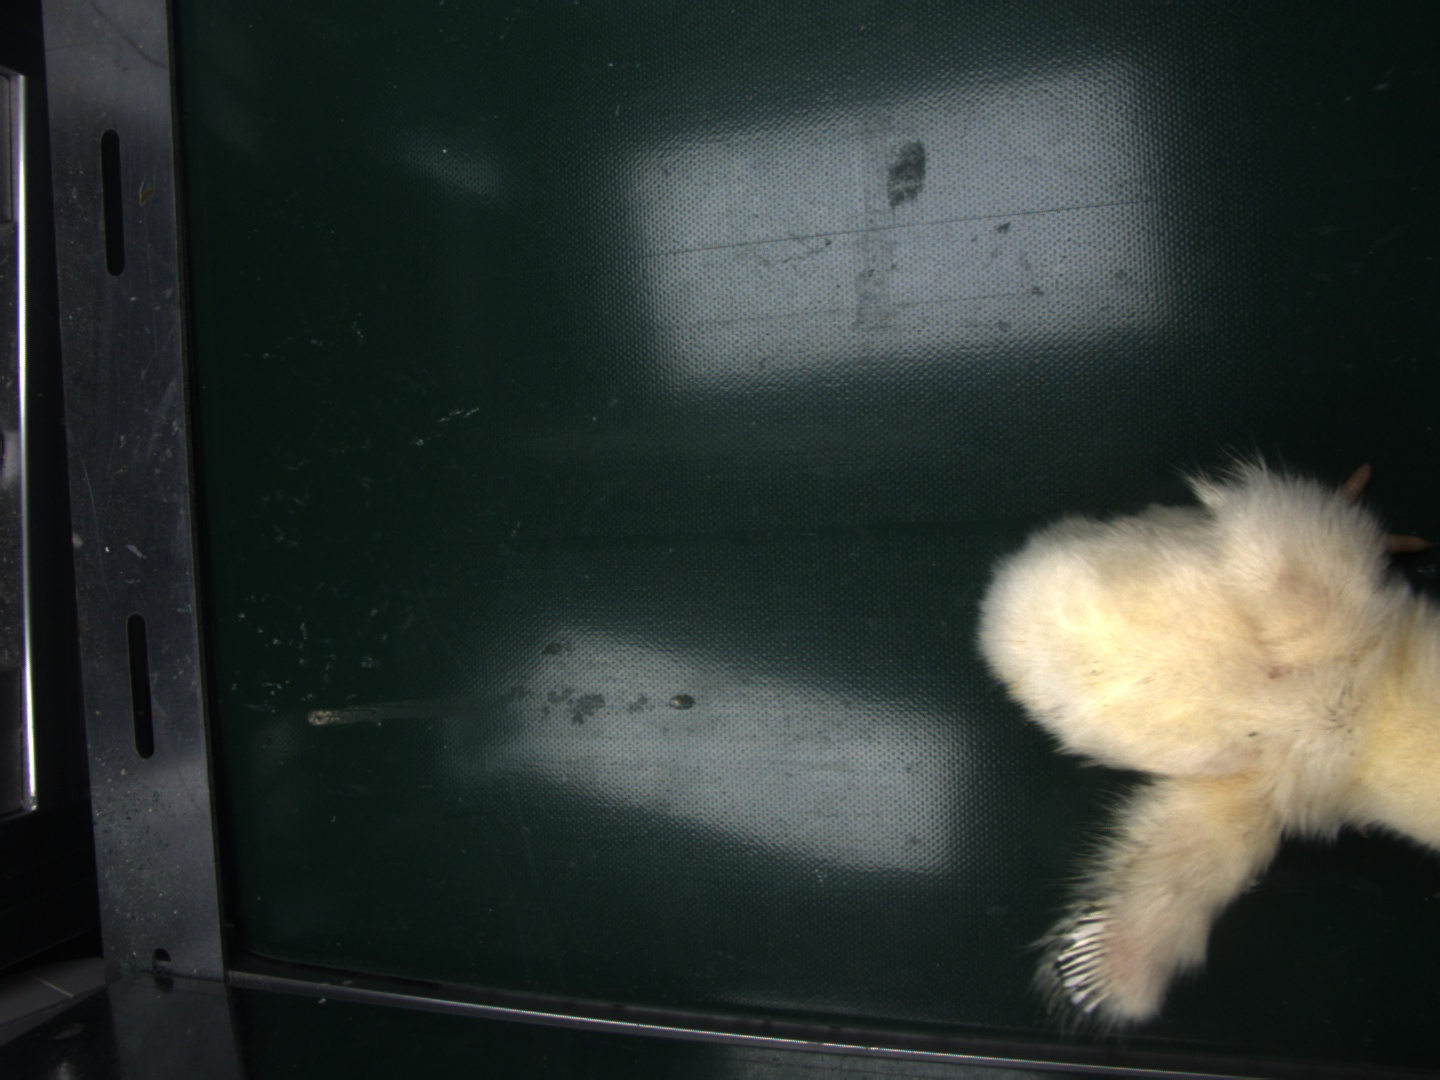male: (1058, 905, 1118, 1009)
